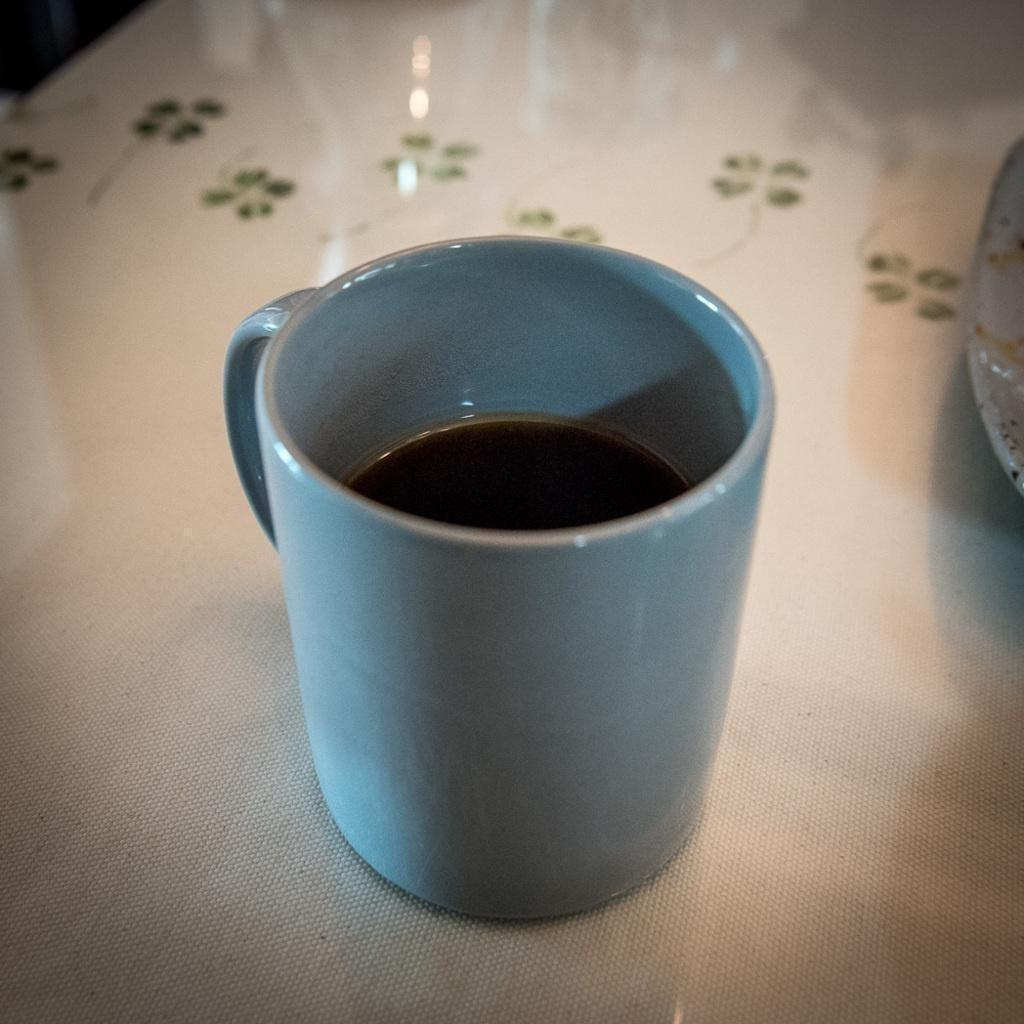cup-handle: (223, 235, 778, 926)
